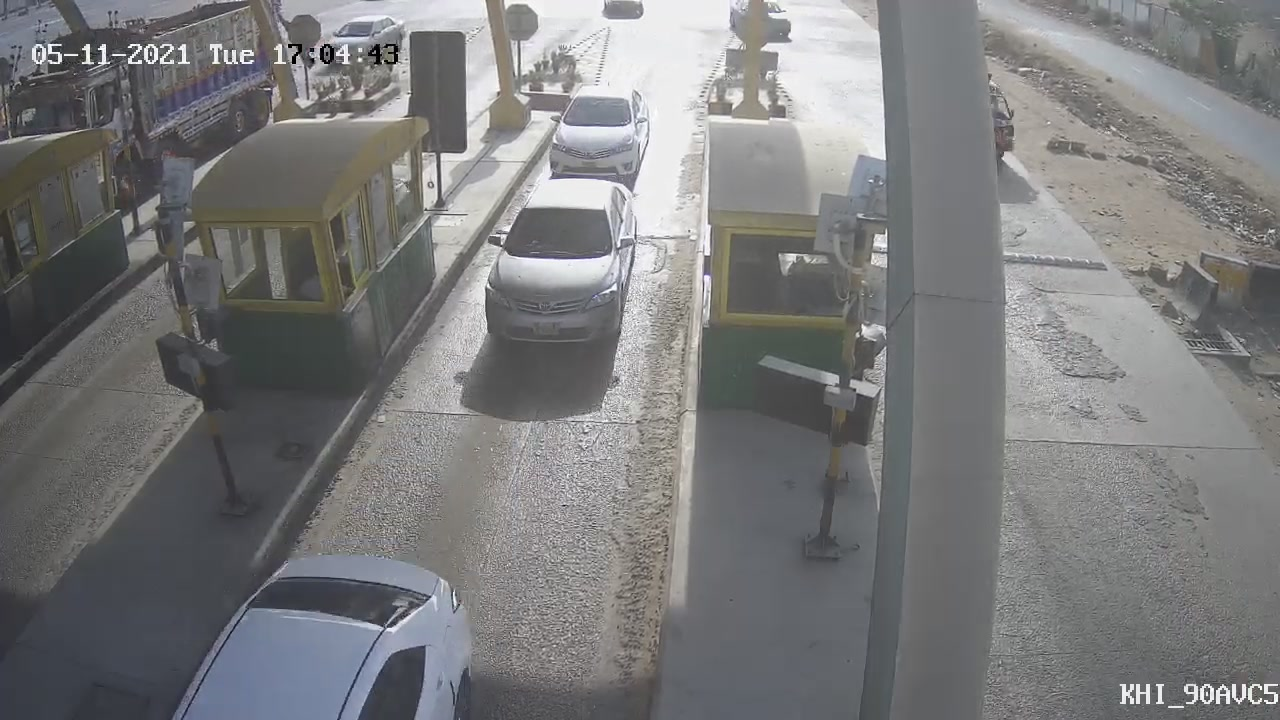F1: (465, 158, 654, 365), (535, 72, 663, 197)
